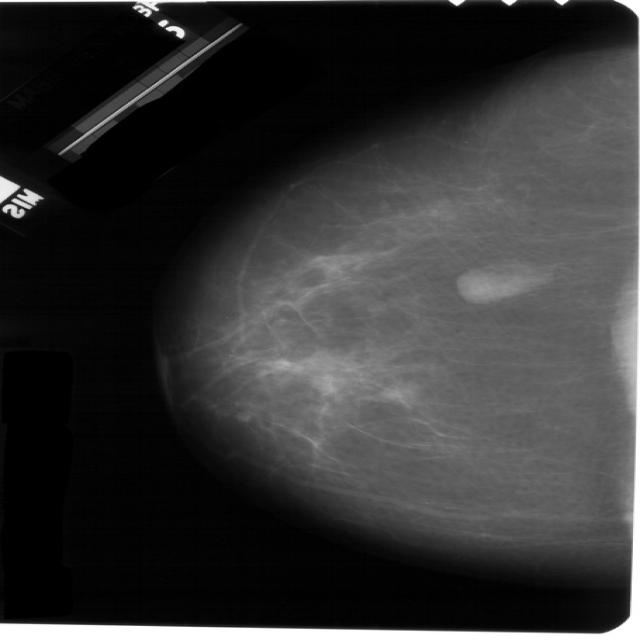tumour: (454, 261, 542, 302)
